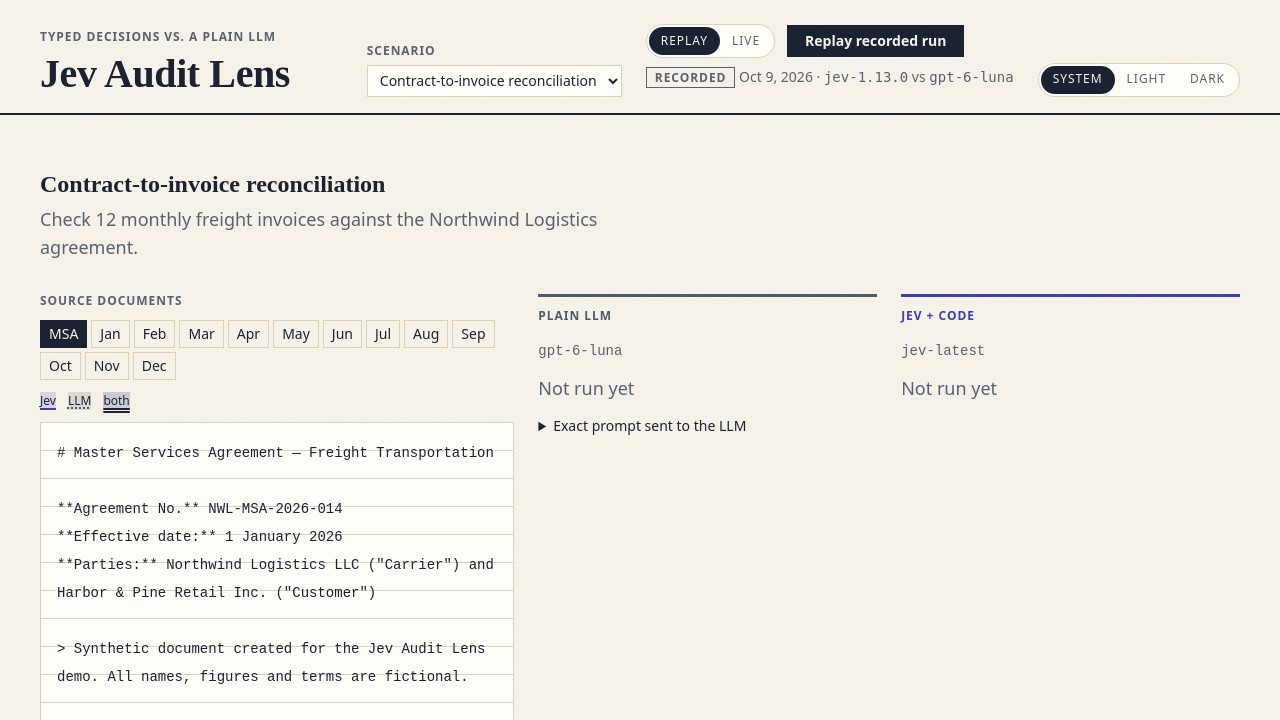
Test: App › shows the exact LLM prompt, for fairness
Click the heading "Exact prompt sent to the LLM" at x=650, y=425, box [553,416,746,435]
(page scrolled)
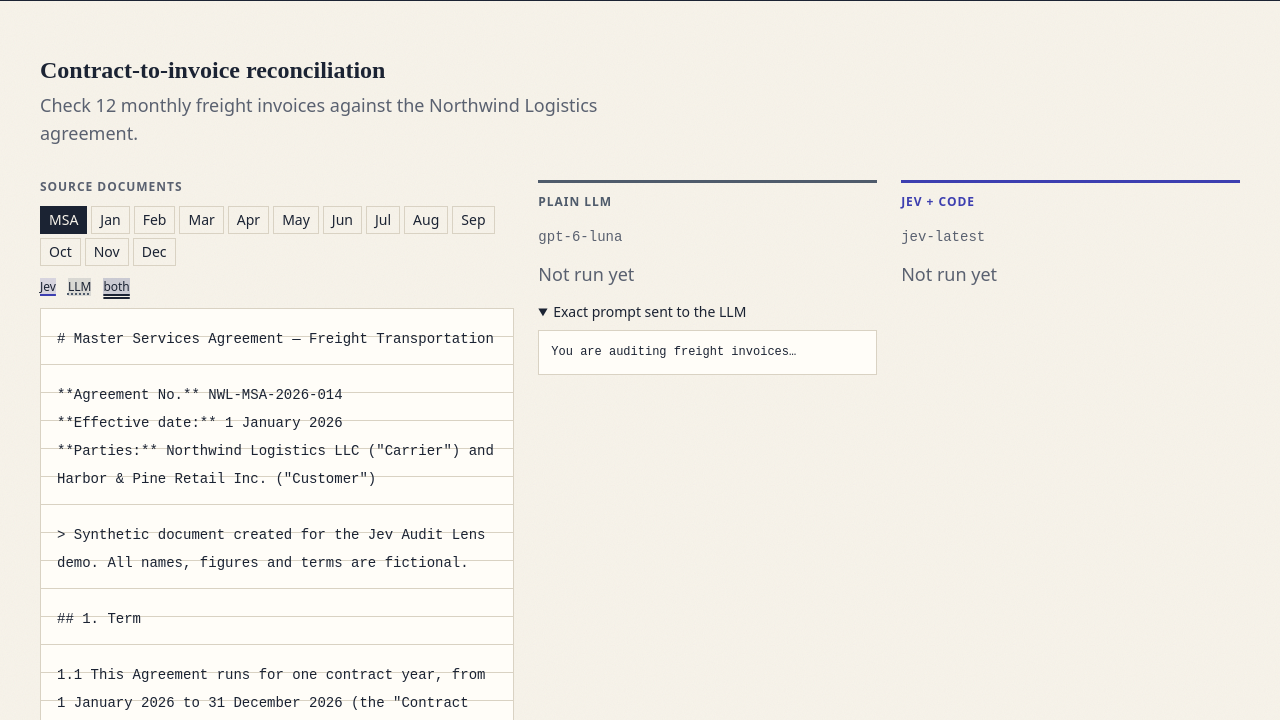
Now the text "You are auditing freight invoices…" is shown, box [538,330,877,375]
